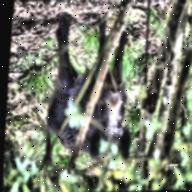boar: (27, 27, 153, 160)
